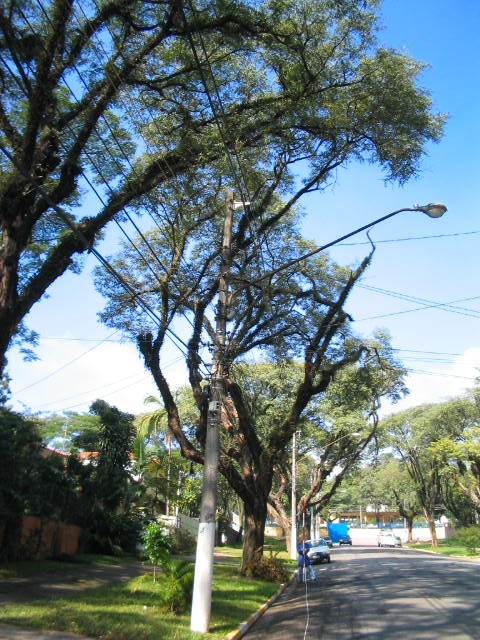stem: (227, 501, 276, 576)
stick: (296, 497, 308, 582)
tree: (91, 170, 383, 578)
